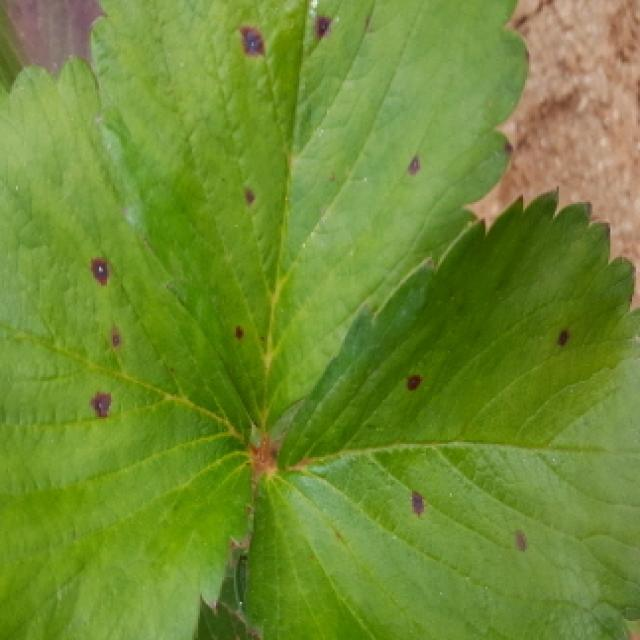Leaf Spot: (88, 0, 533, 437), (233, 187, 640, 640), (0, 52, 258, 640)
